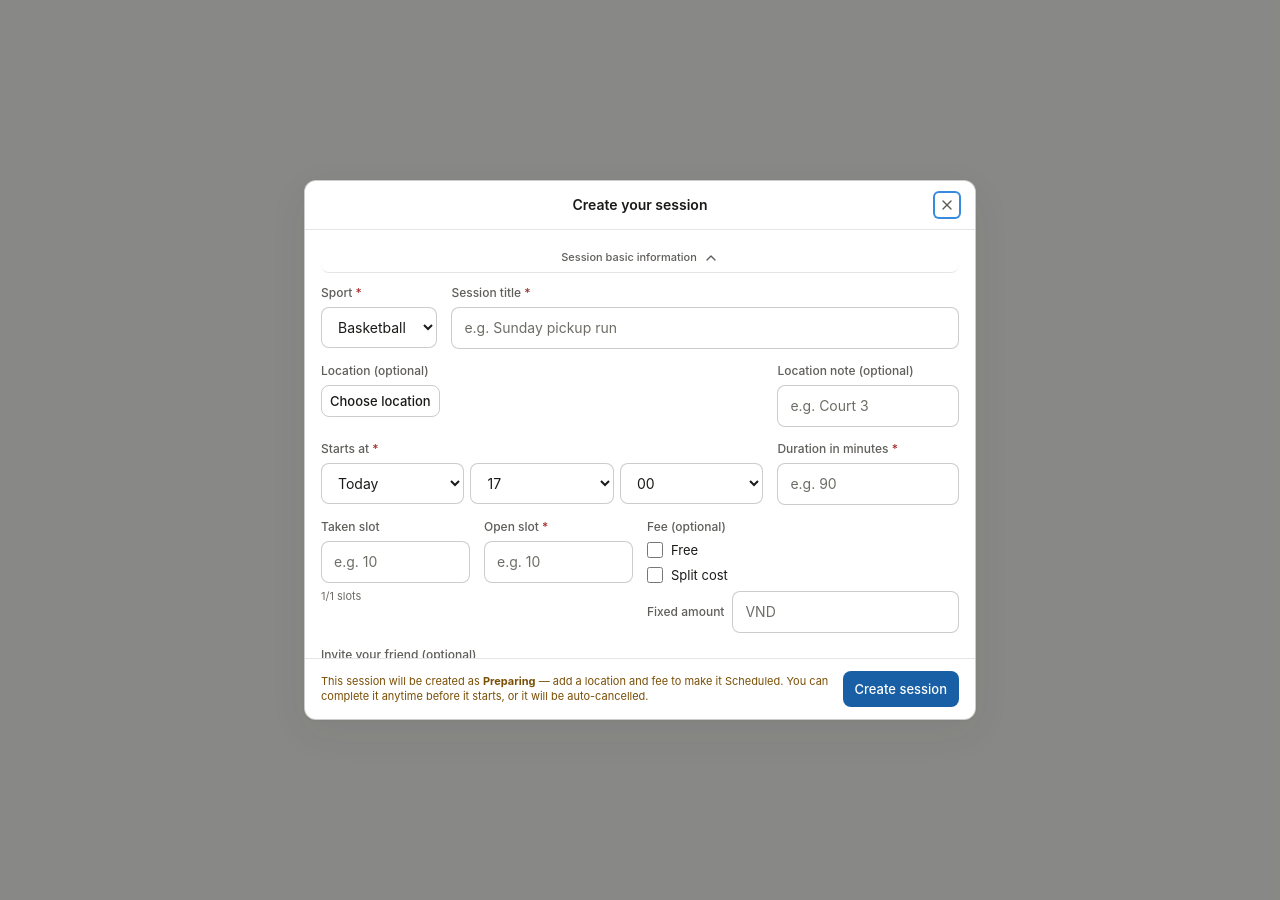
Test: CreateSessionModal › changing the Sport resets every field in the form (CLIENT-SESSION-15 scope change)
Type "Sunday game" into the field labelled "Session title *" at [705, 328], box [451, 307, 959, 349]
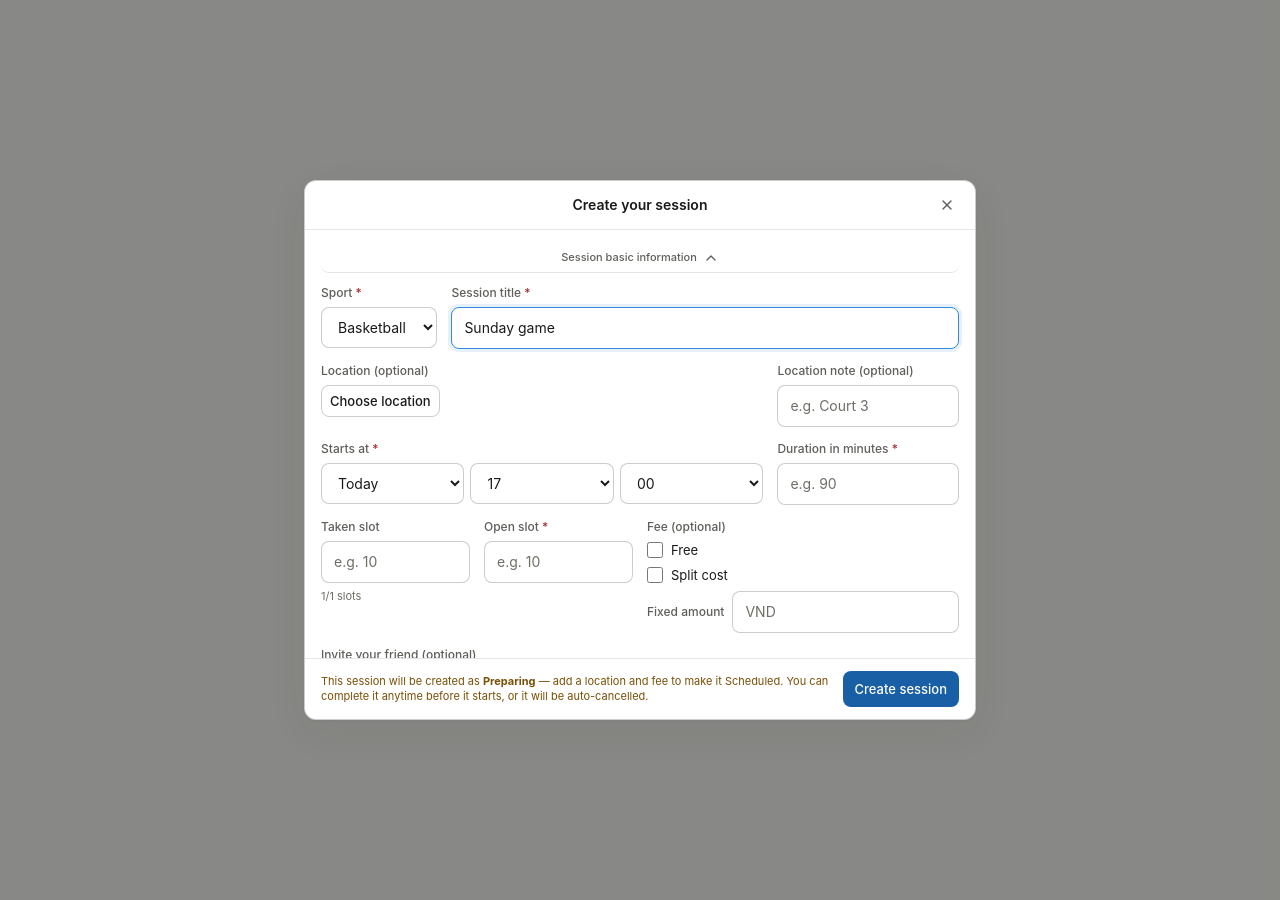
Type "90" into the number field labelled "Duration in minutes *" at [868, 484], box [777, 463, 959, 505]
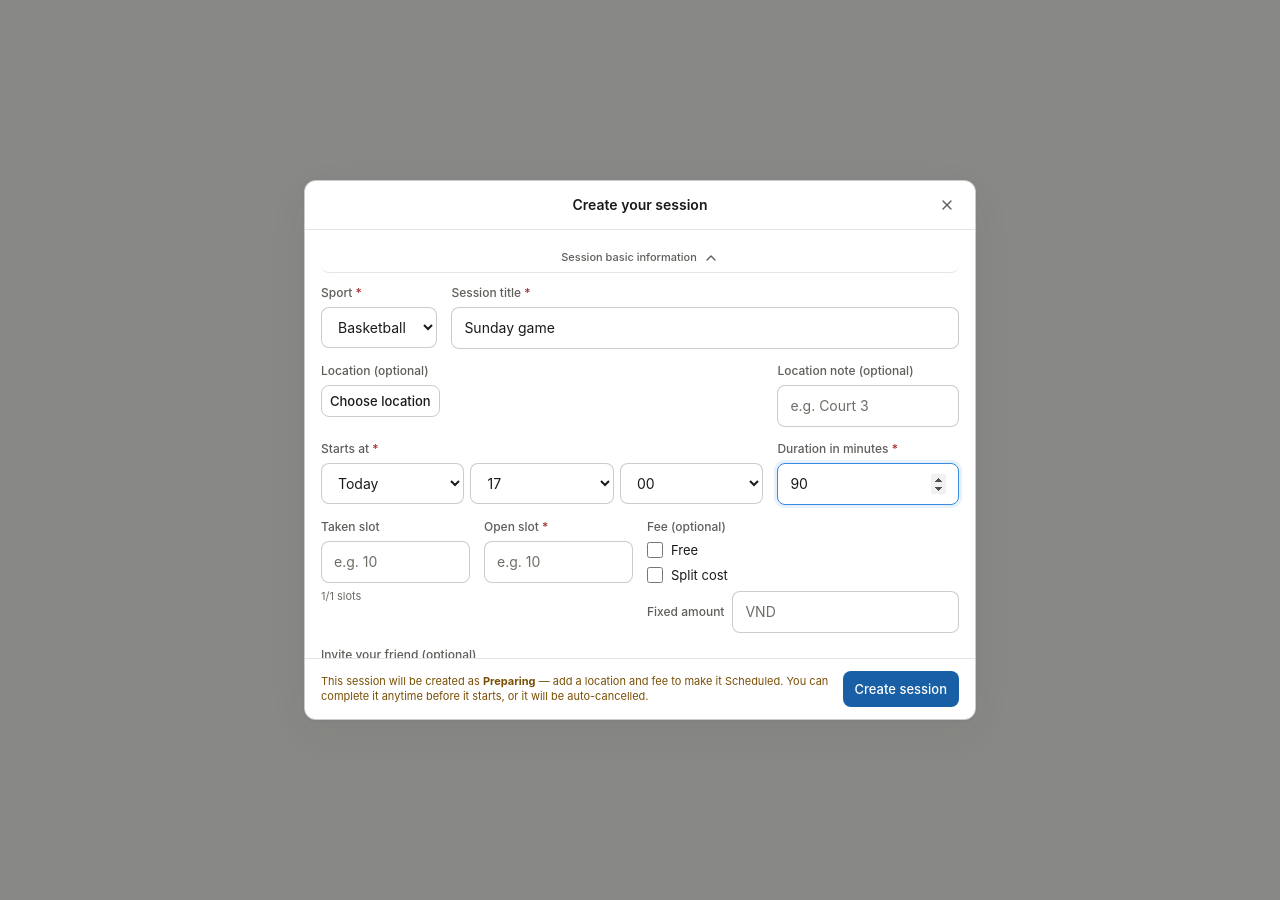
Type "8" into the number field labelled "Open slot *" at [558, 562], box [484, 541, 633, 583]
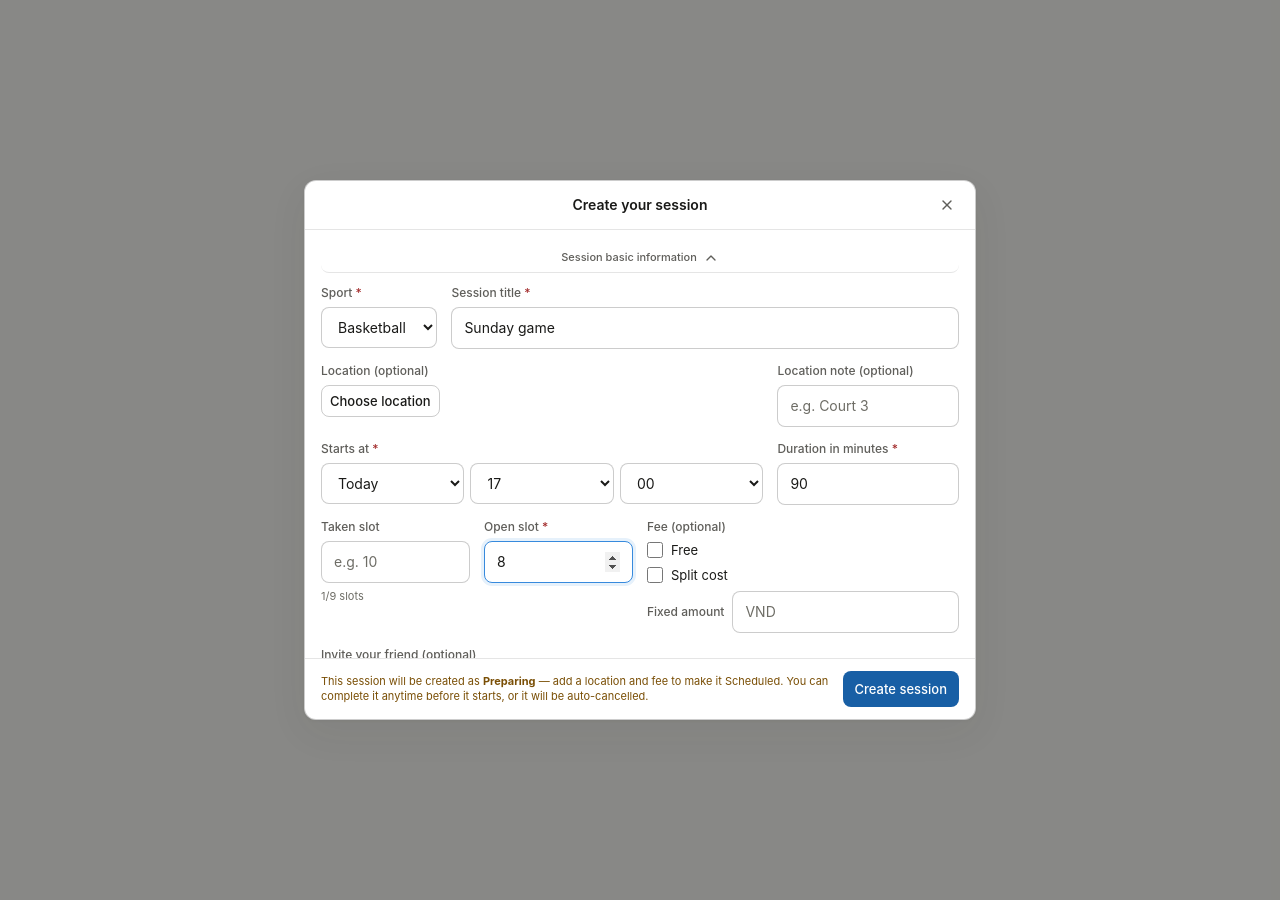
Select "Tennis" in the dropdown labelled "Sport *" at [379, 328], box [321, 307, 437, 348]
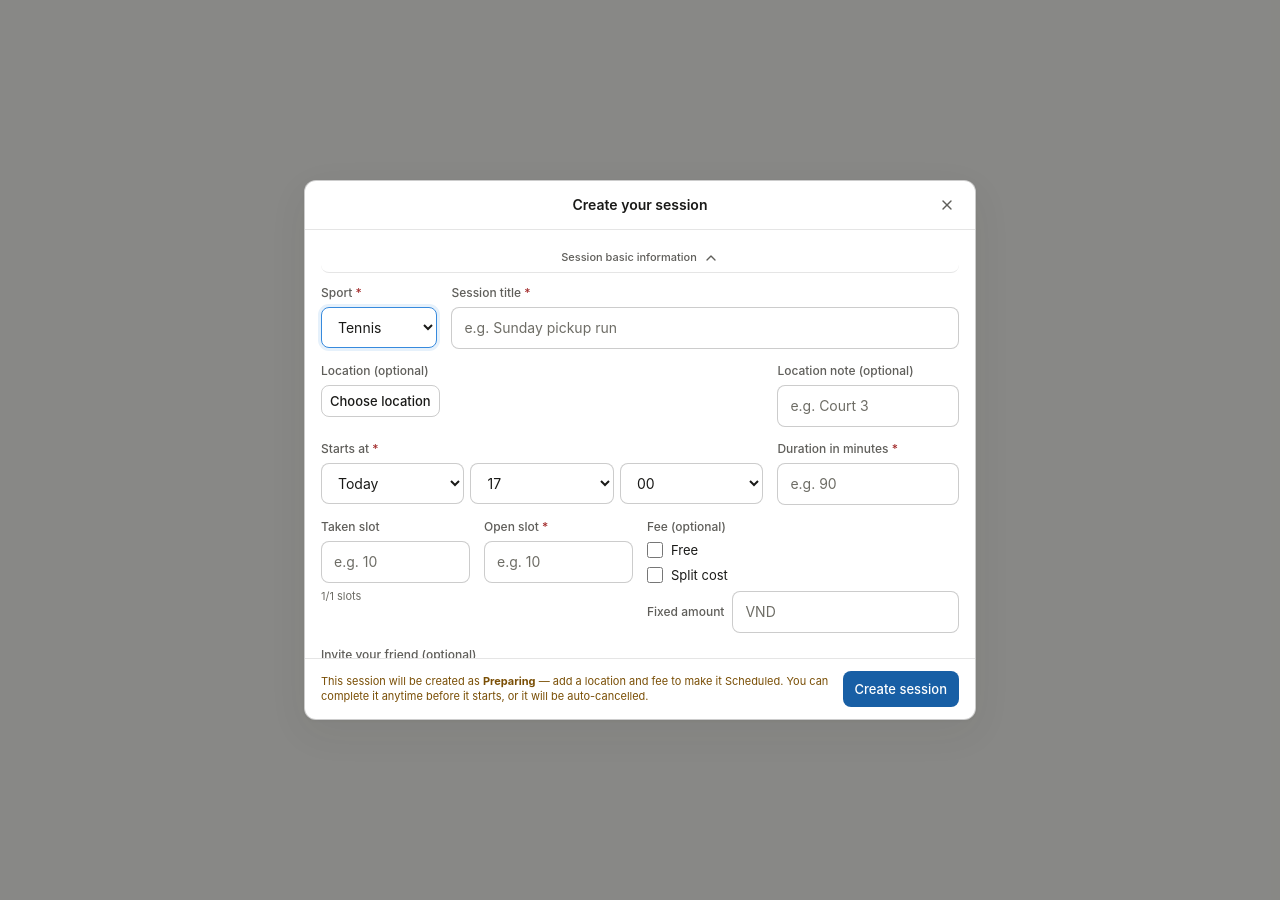
Expected: the field labelled "Session title *" is empty, [451, 307, 959, 349]
Expected: the number field labelled "Duration in minutes *" is not empty, [777, 463, 959, 505]
Expected: the number field labelled "Open slot *" is not empty, [484, 541, 633, 583]
